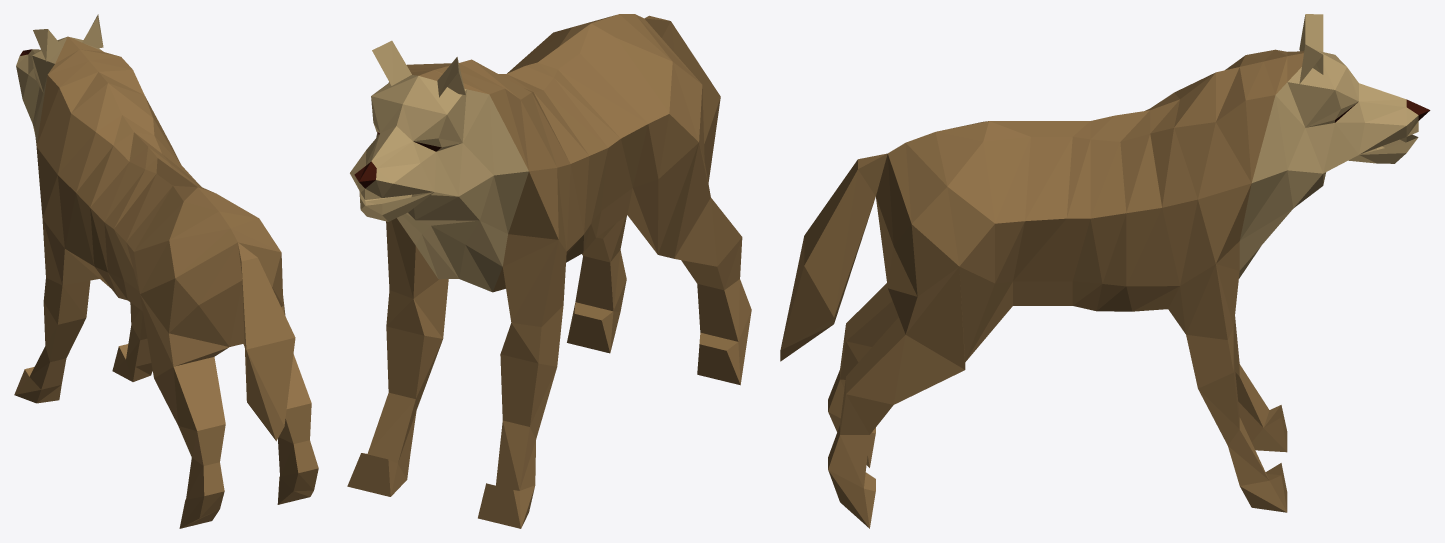
File: npc_world_dog_0.obj
The picture shows the model from 3 angles, left to right: view 1: azimuth 30°, elevation 25°; view 2: azimuth 150°, elevation 25°; view 3: azimuth 270°, elevation 25°; orthographic projection. The views are drawn at different scales.
Size of the model in its own units: 0.2656 by 0.6641 by 0.8516.
